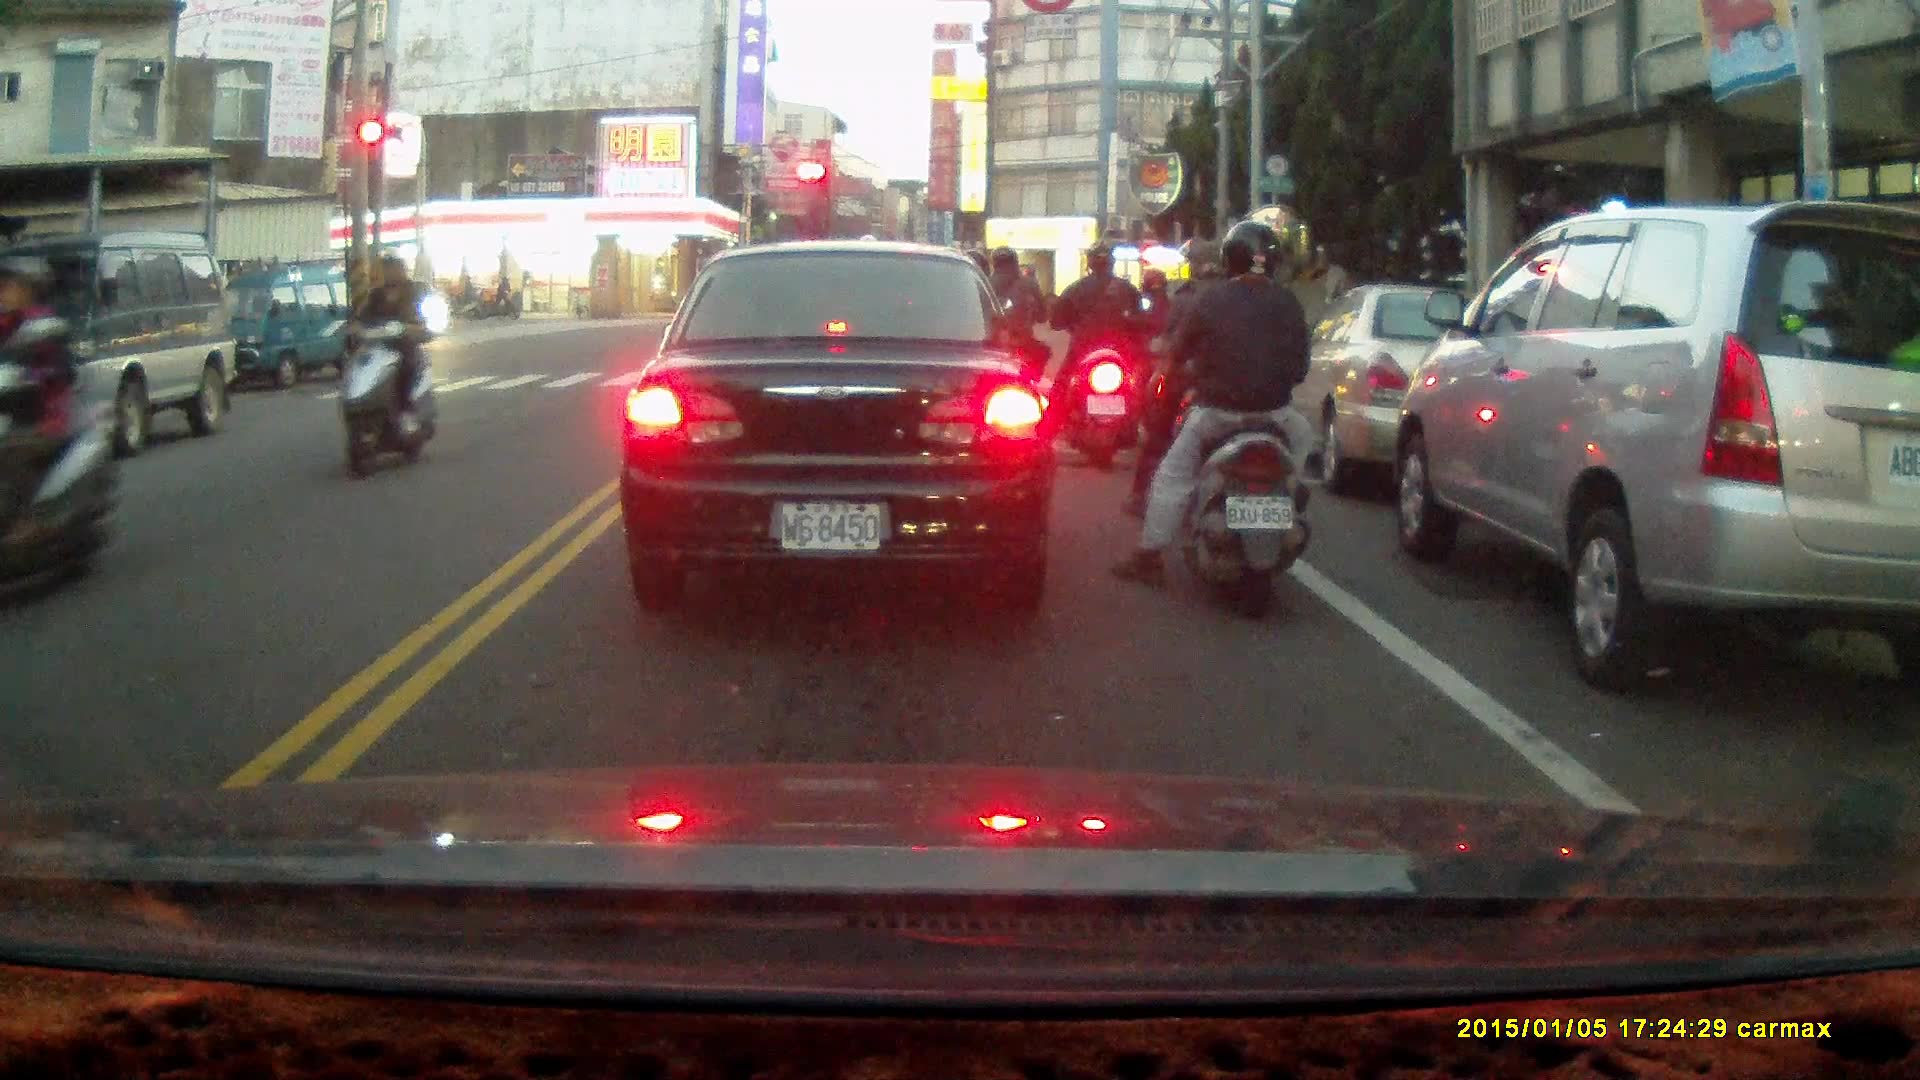pedestrian: (486, 272, 510, 316)
rider: (1108, 216, 1316, 623), (0, 255, 117, 615), (1126, 232, 1256, 537), (330, 247, 437, 481), (1048, 243, 1141, 469), (964, 245, 1050, 446), (1133, 268, 1203, 449)
vehicle: (1389, 195, 1920, 685), (617, 243, 1061, 606), (1269, 282, 1543, 498), (1, 234, 239, 458), (194, 255, 381, 393), (372, 277, 451, 343)
